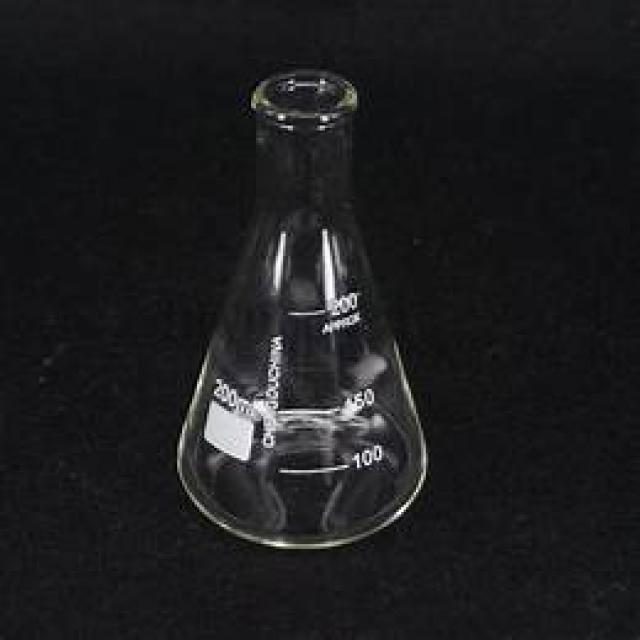Titrarion: (161, 60, 435, 547)
